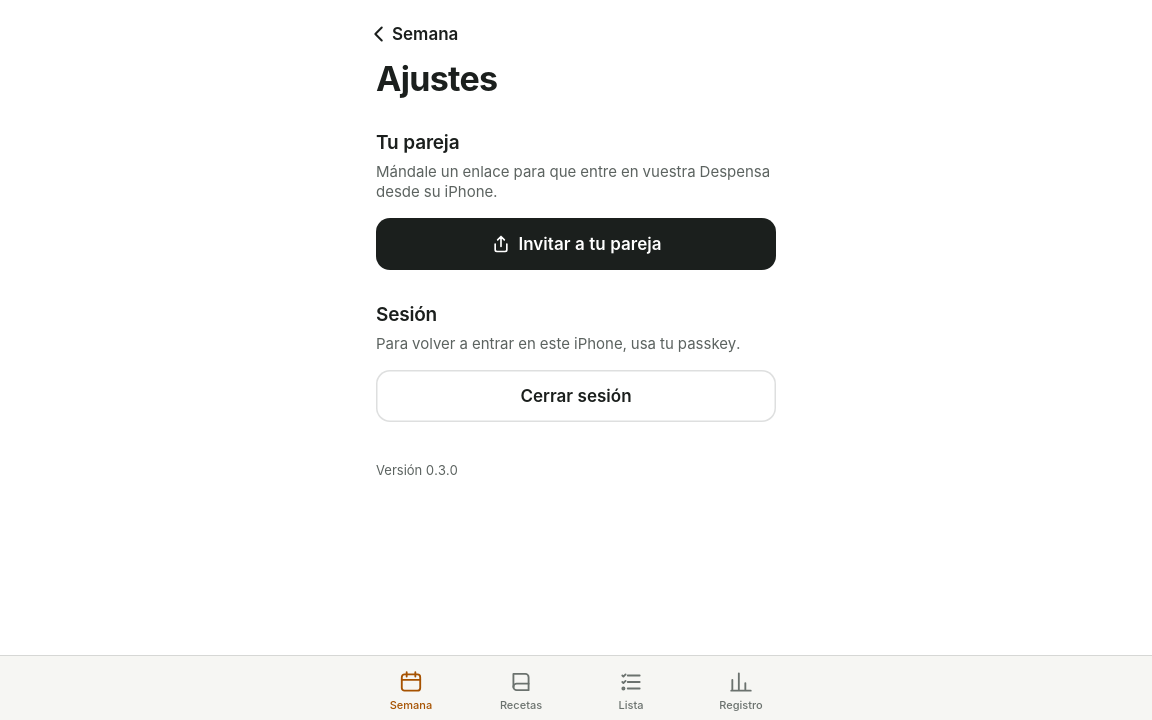
Ajustes › con una sola persona invita y comparte el enlace
The image size is (1152, 720).
Step 1. Click the button "Invitar a tu pareja" → (576, 244), box [376,218,776,270]
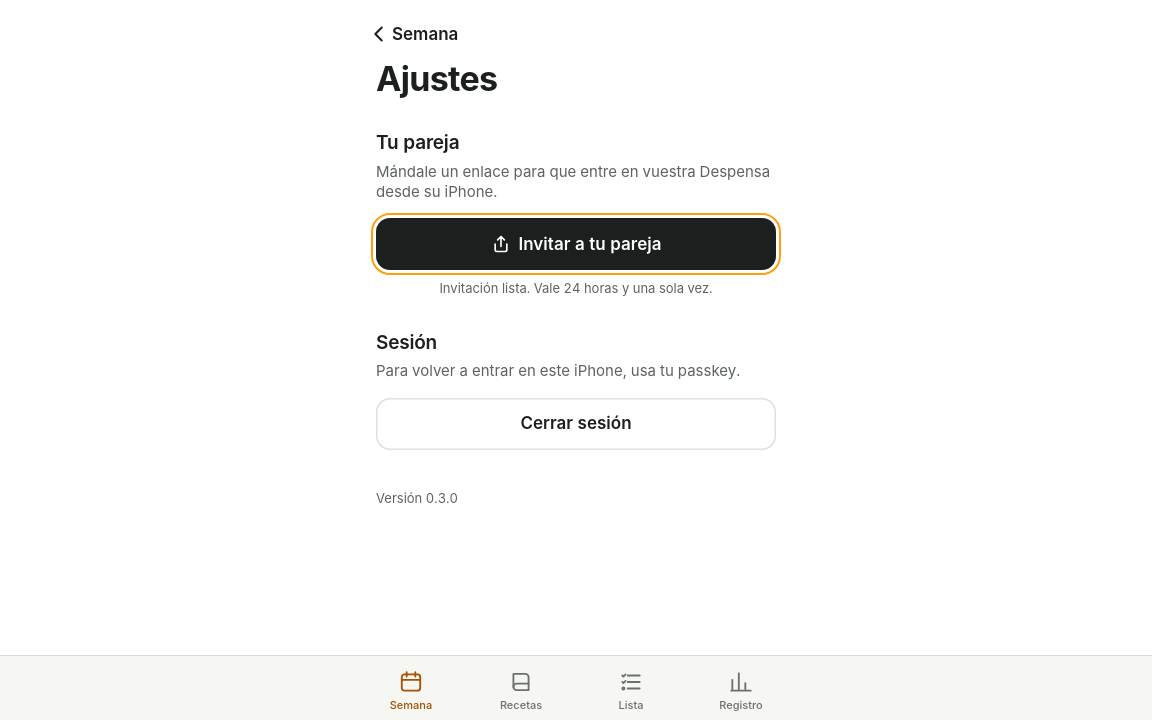
Expected: the text "Invitación lista. Vale 24 horas y una sola vez." is shown, [439,280,713,296]
